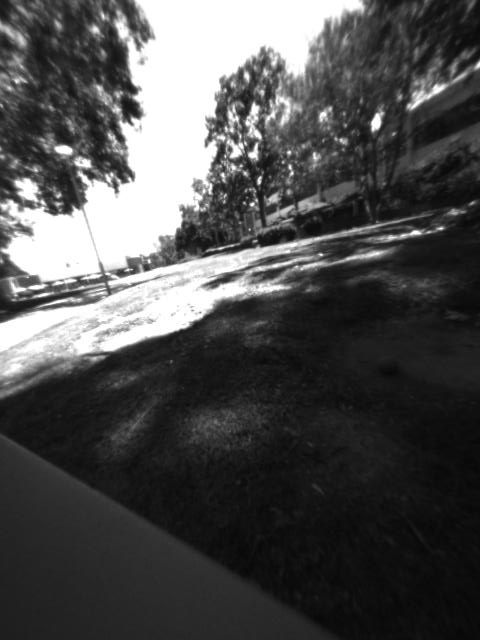dogtoy: (369, 348, 408, 385)
